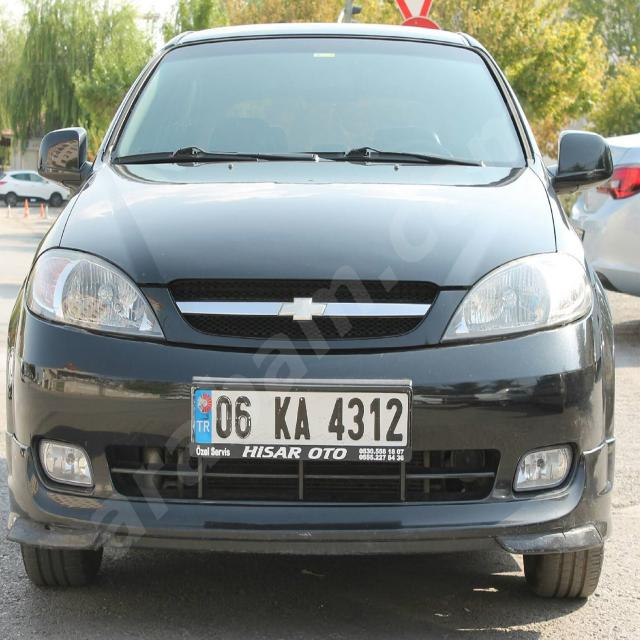license_plate: (194, 386, 410, 448)
